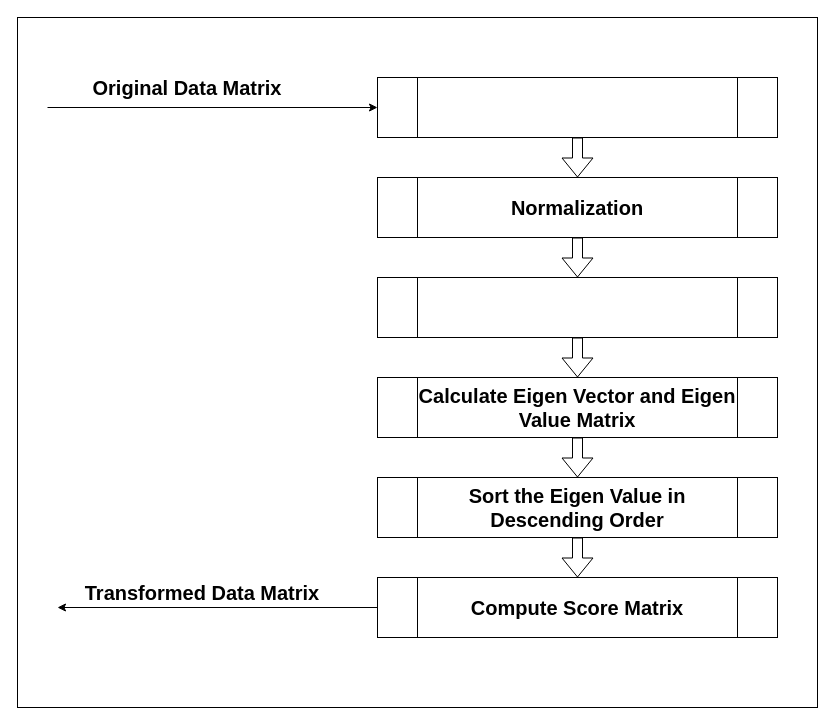
Some shapes in this 835 by 725 pixel diagram are drawn without their labels. The shapes that lost their labels are listed below. From the top down, each one's box as (x1, y1, x2, y2) in pixels, then its label:
(376, 76, 778, 138): Take the mean
(376, 276, 778, 338): Compute Covariance Matrix
